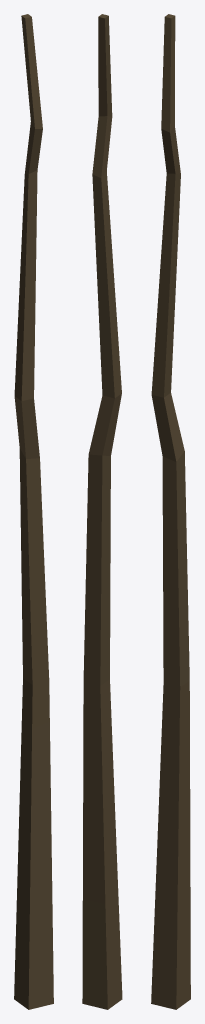
Rendered from SM_Prop_Pole_01.glb.
3 renders of one model, left to right at view 1: azimuth 30°, elevation 25°; view 2: azimuth 150°, elevation 25°; view 3: azimuth 330°, elevation 25°, orthographic.
Parts seen in each view (by area): view 1: SM_Prop_Pole_01; view 2: SM_Prop_Pole_01; view 3: SM_Prop_Pole_01.
Part boxes in pixels (left/top/right/bottom): SM_Prop_Pole_01: left=14, top=14, right=53, bottom=1009; SM_Prop_Pole_01: left=82, top=14, right=122, bottom=1009; SM_Prop_Pole_01: left=151, top=14, right=190, bottom=1009.
Bounding box in the file's own units: 0.00338 × 0.1115 × 0.003.
